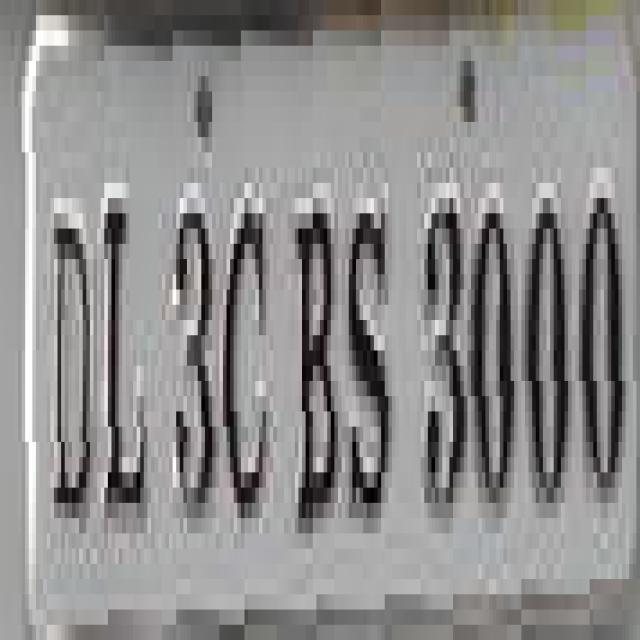license_plate: (14, 15, 640, 640)
